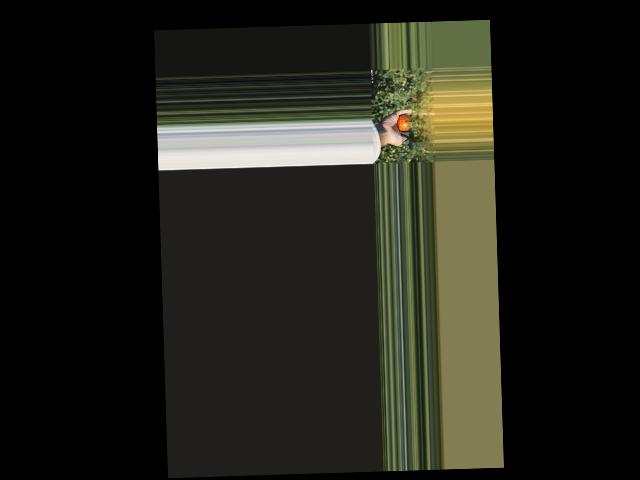tomato: (397, 113, 412, 130)
